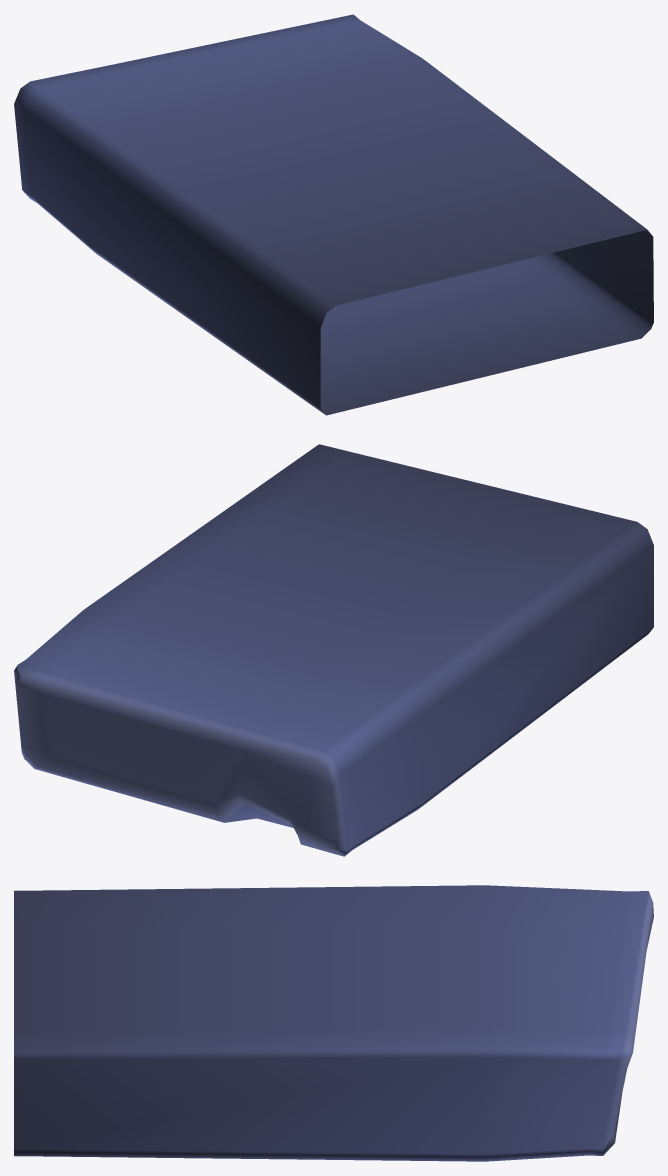
Rendered from Stone_2x4.fbx.
3 views of the same model, one above another, from view 1: azimuth 30°, elevation 25°; view 2: azimuth 150°, elevation 25°; view 3: azimuth 270°, elevation 25° (orthographic). The views are drawn at different scales.
Parts seen in each view (by area): view 1: Cliff_Long_03; view 2: Cliff_Long_03; view 3: Cliff_Long_03.
Part boxes in pixels (box(x1,y1,x2,y2)): Cliff_Long_03: box(14, 14, 653, 415); Cliff_Long_03: box(14, 444, 653, 856); Cliff_Long_03: box(14, 885, 653, 1161).
Size of the model in its own units: 836 by 273 by 1319.
